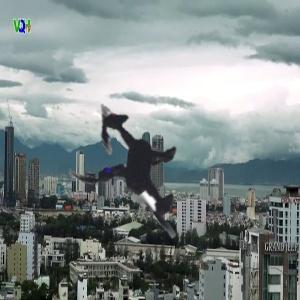drone: (18, 60, 251, 293)
